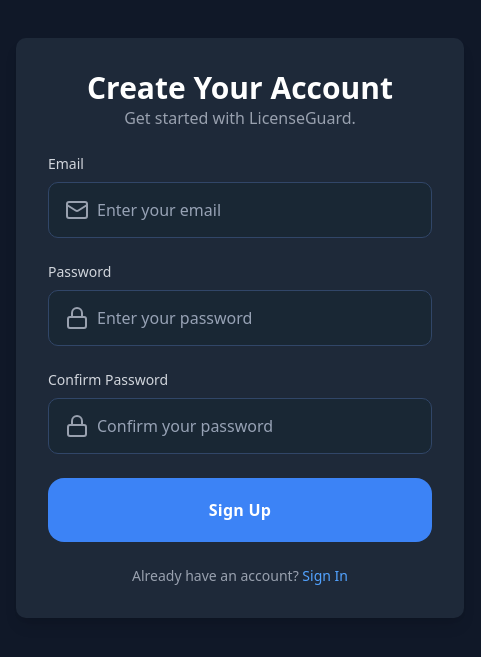
Test: SignUpPage Component › Password Mismatch Detection › should detect when passwords are mismatched
Type "test@example.com" into the field with placeholder "Enter your email".
click(260, 210); type("test@example.com")  # box top-left (89, 183), bottom-right (431, 237)
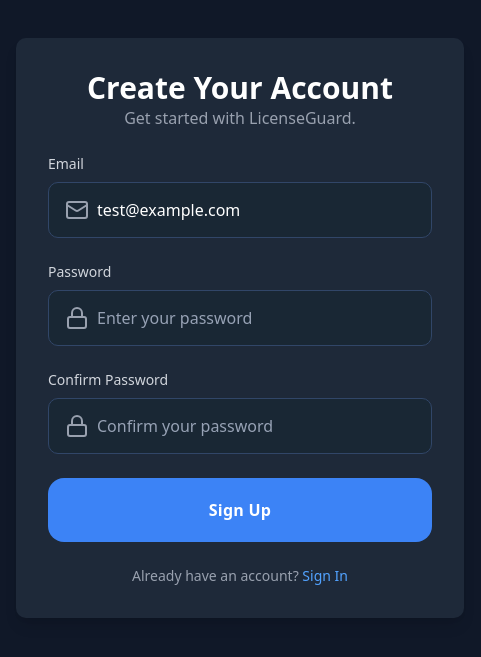
Type "password123" into the password field with placeholder "Enter your password".
click(260, 318); type("password123")  # box top-left (89, 291), bottom-right (431, 345)
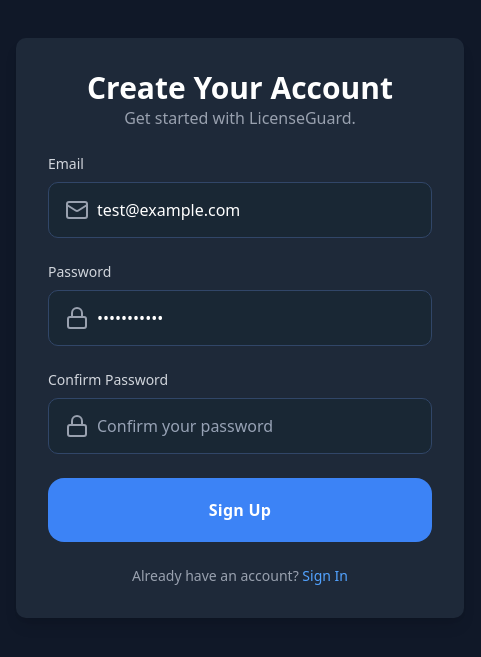
Type "differentPassword" into the password field with placeholder "Confirm your password".
click(260, 426); type("differentPassword")  # box top-left (89, 399), bottom-right (431, 453)
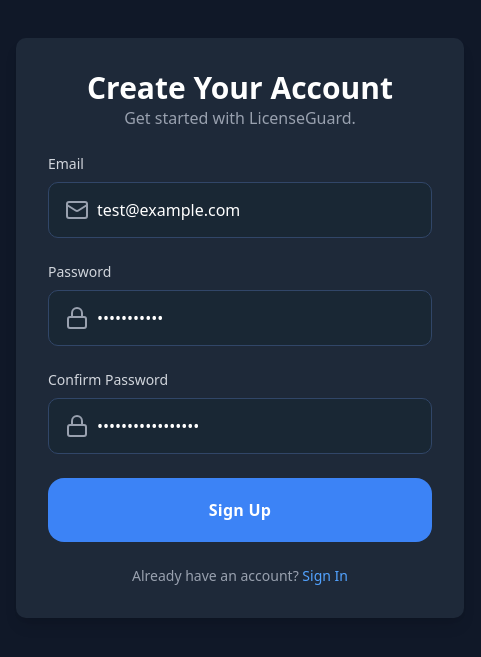
Click the button "Sign Up".
click(240, 510)  # box top-left (48, 478), bottom-right (432, 542)
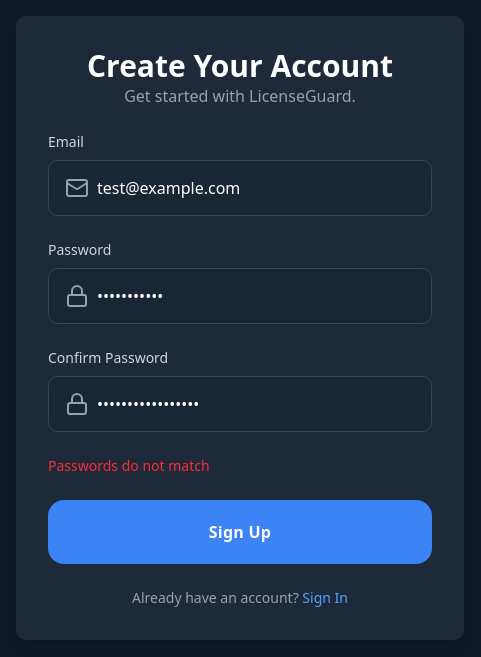
Now the text "Passwords do not match" is shown, box top-left (48, 456), bottom-right (210, 475)
